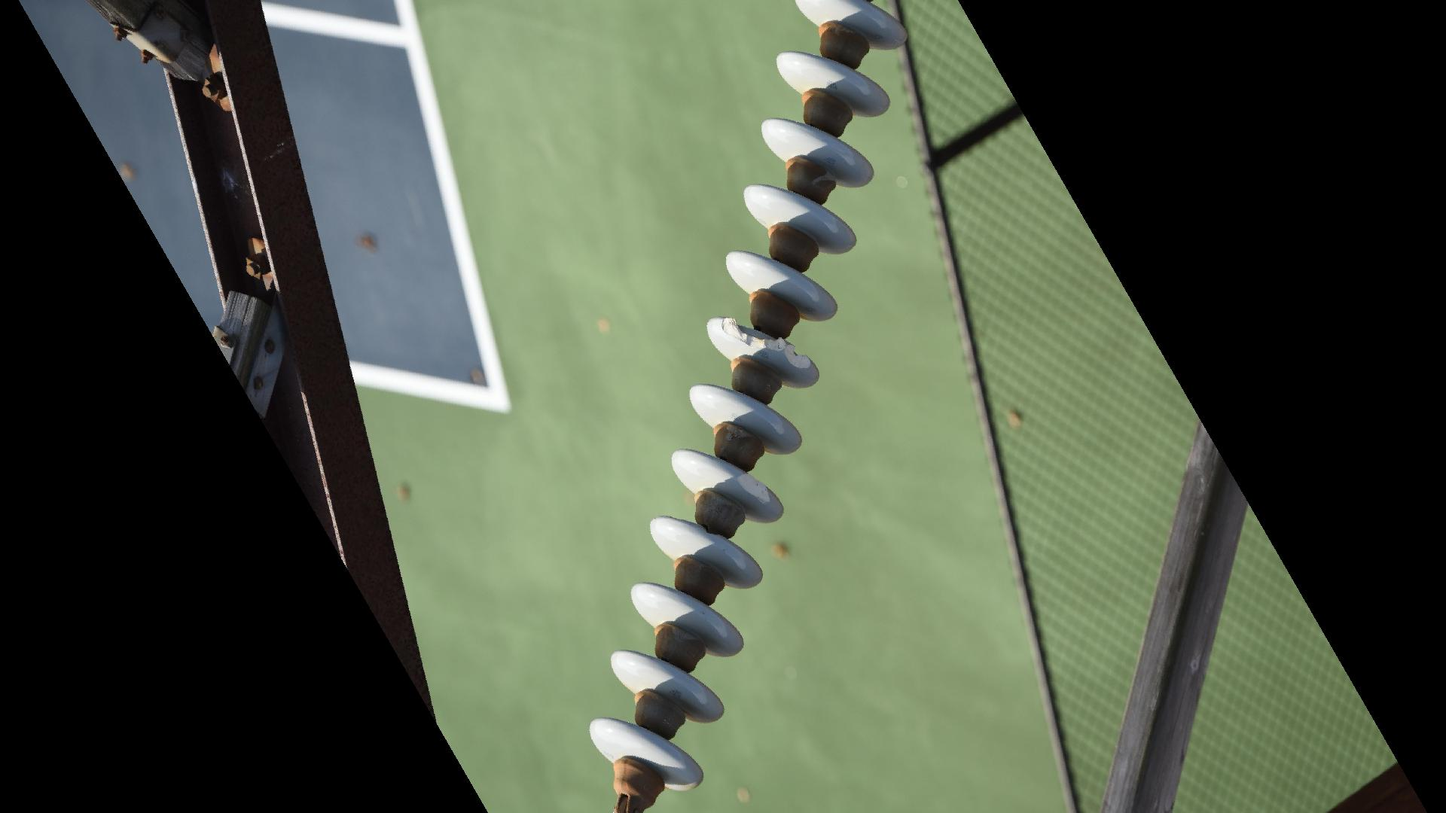insulator: (578, 1, 917, 799)
insulator_breakage: (714, 309, 816, 376)
